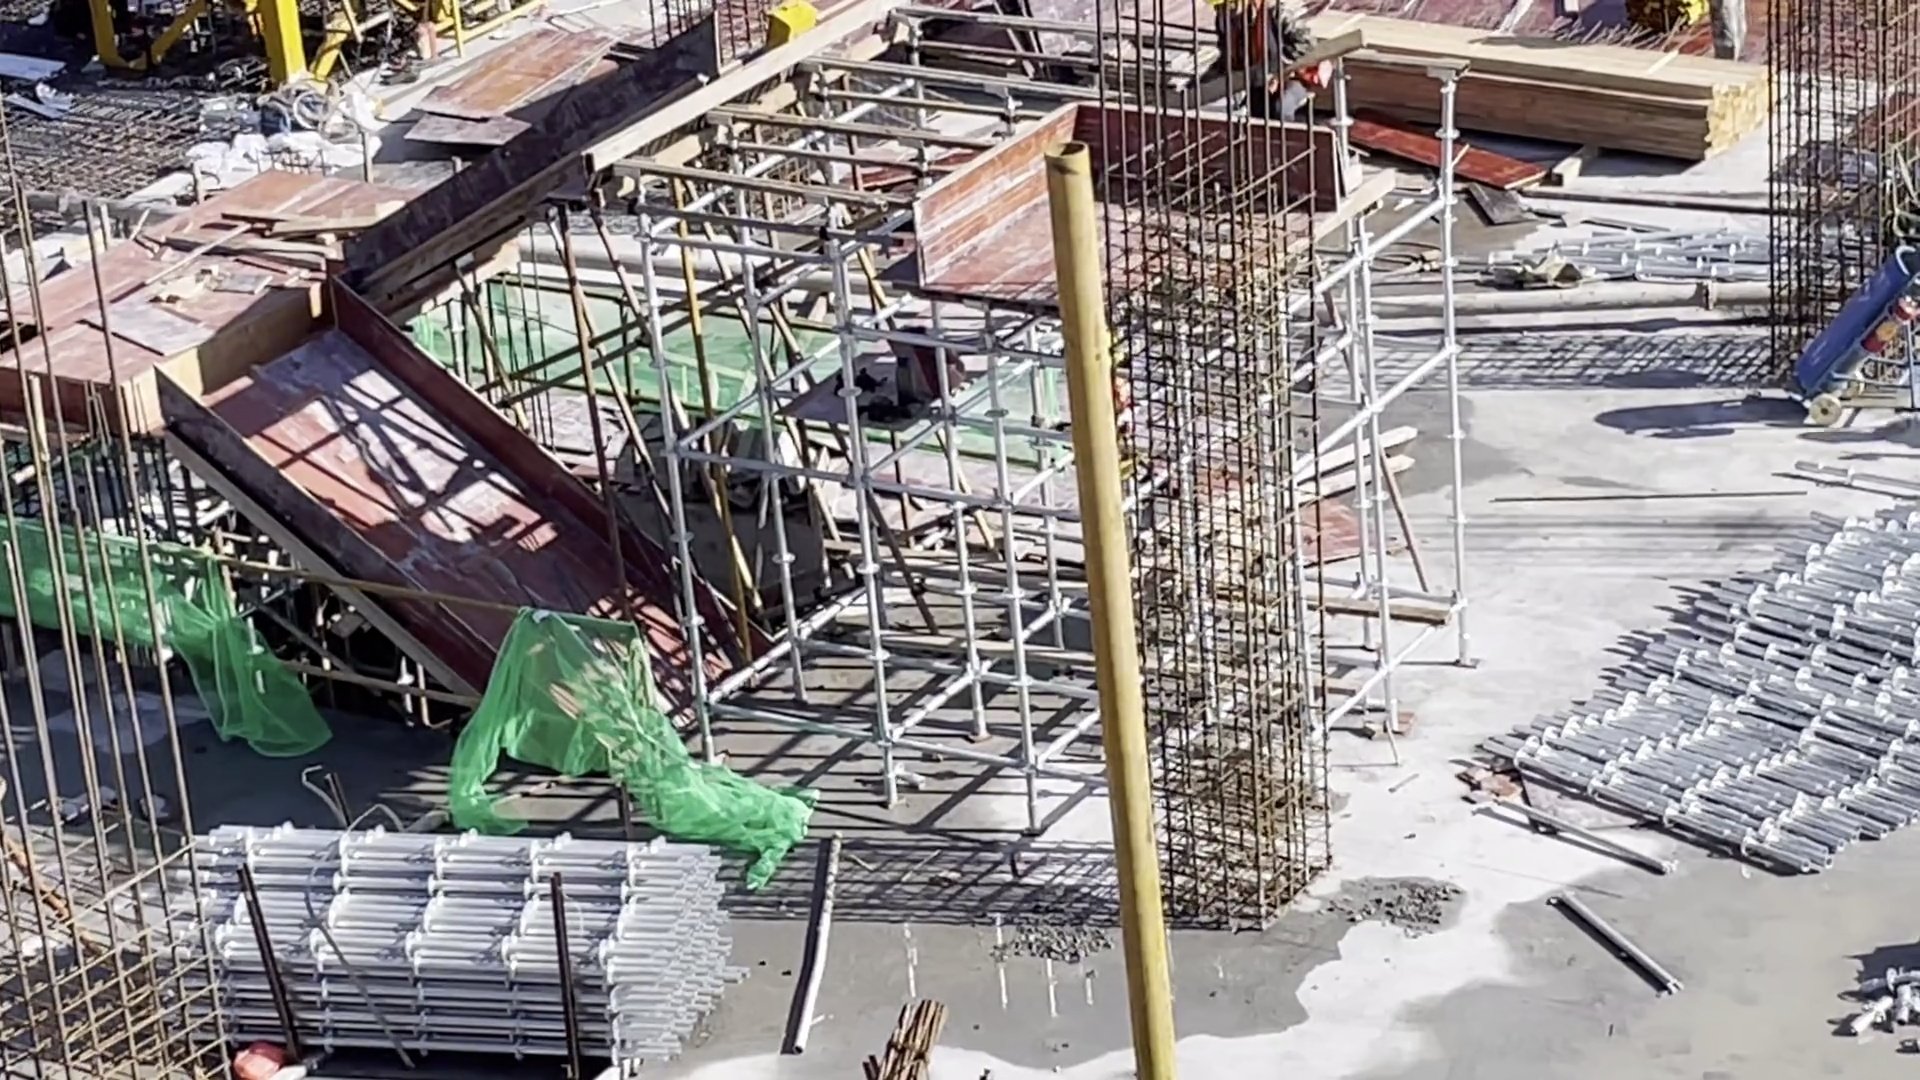person: (1212, 5, 1334, 117)
scaffold: (1485, 512, 1920, 884), (162, 813, 752, 1064)
wood: (1307, 13, 1769, 166)
